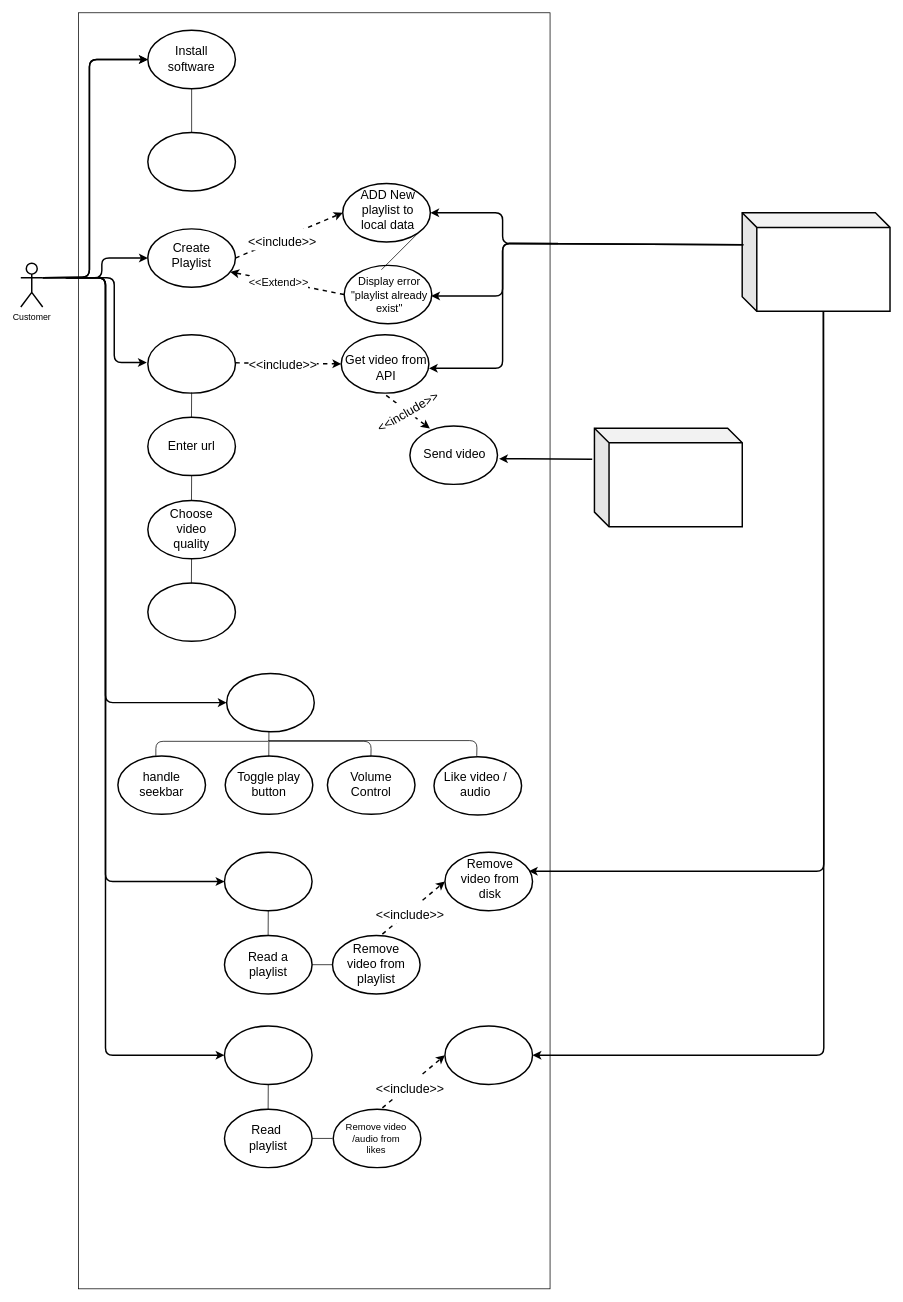
Some shapes in this 903 by 1302 pixel diagram are drawn without their labels. Each missing label, with the centre of its shape:
Accept Terms of Service: (191,161)
API ( Backend ): (668,477)
Choose playlist: (191,612)
Download video / audio: (191,363)
Read video / audio: (270,702)
Remove from local data: (488,1055)
Show All Playlists: (267,881)
Show likes playlist: (267,1055)
Software ( system ): (815,262)
